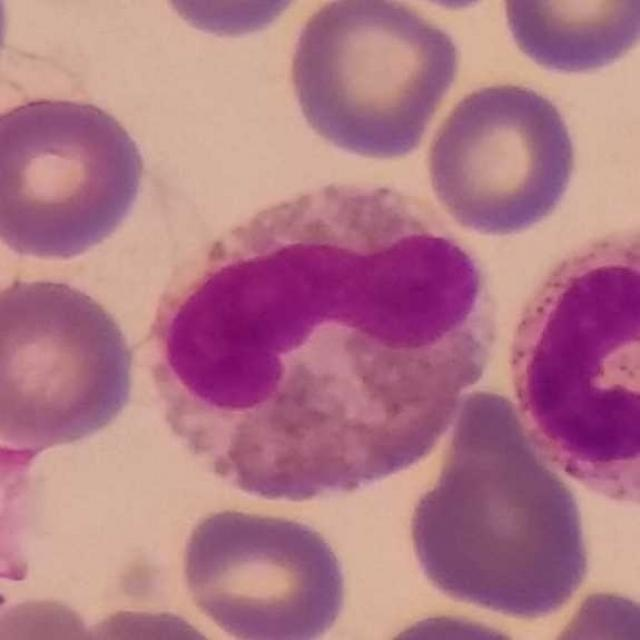eosino: (141, 169, 488, 524), (512, 181, 640, 529)
